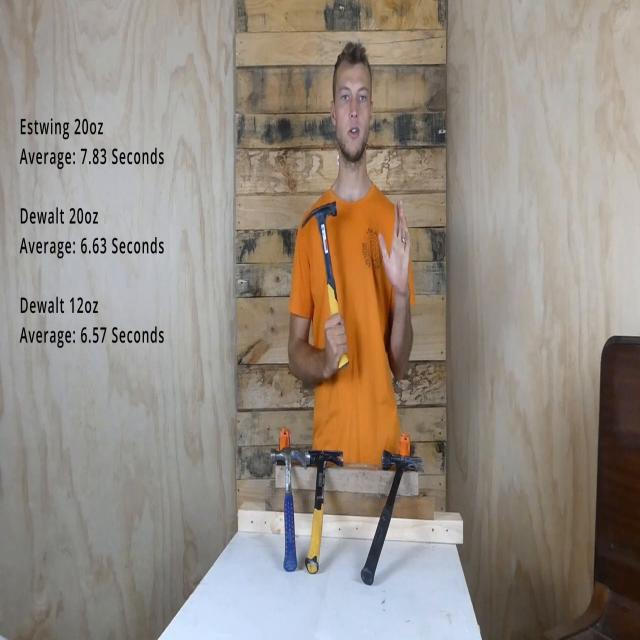hammer: (361, 450, 424, 584), (301, 200, 348, 368), (305, 448, 344, 575), (270, 444, 308, 572)
